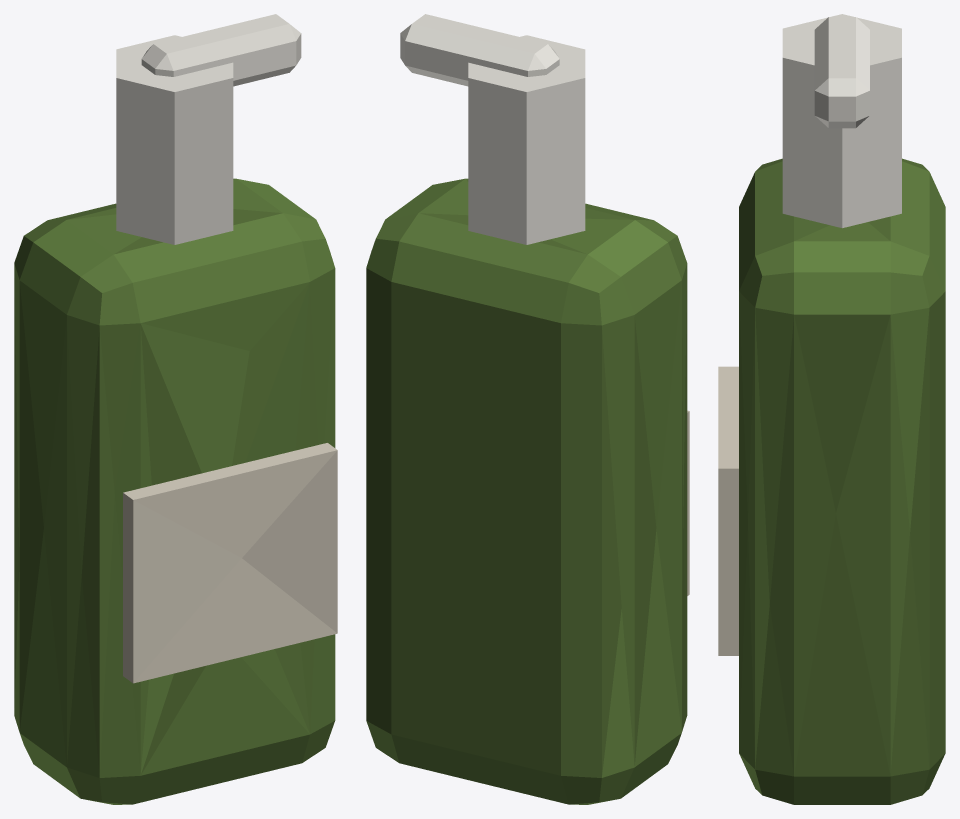
File: soap_gel_idle.glb
The picture shows the model from 3 angles, left to right: view 1: azimuth 30°, elevation 25°; view 2: azimuth 150°, elevation 25°; view 3: azimuth 270°, elevation 25°; orthographic projection. The views are drawn at different scales.
Visible parts, largest first — view 1: soap_gel_idle; view 2: soap_gel_idle; view 3: soap_gel_idle.
Boxes of the visible parts, x1=… form: soap_gel_idle: x1=14, y1=14, x2=337, y2=804; soap_gel_idle: x1=366, y1=14, x2=689, y2=804; soap_gel_idle: x1=718, y1=14, x2=945, y2=804.
Size of the model in its own units: 0.045 by 0.118 by 0.033.
1 material, 1 textured.
